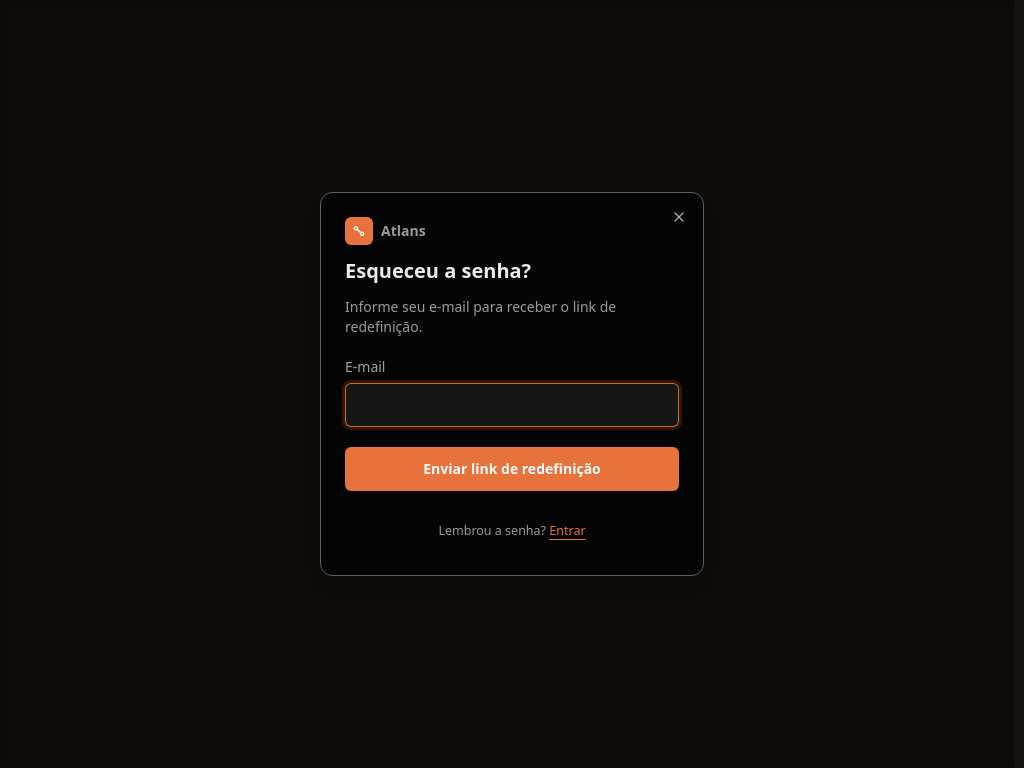
Test case: ModalDeEntrada — o caminho da senha › recuperar: POST /auth/forgot-password e o aviso de caixa de entrada
In the field labelled "E-mail": (512, 405) 345,383 -> 679,427, type "ana@exemplo.com"
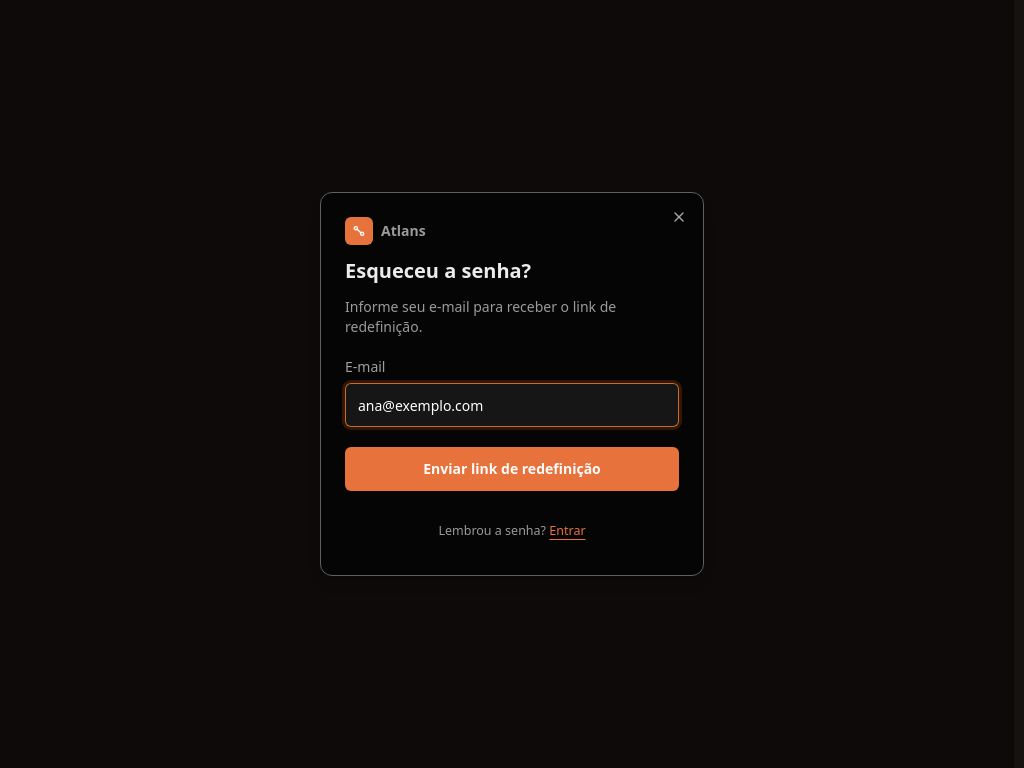
Submit the form labelled "E-mail Enviar link de redefinição", box 345,357 -> 679,491
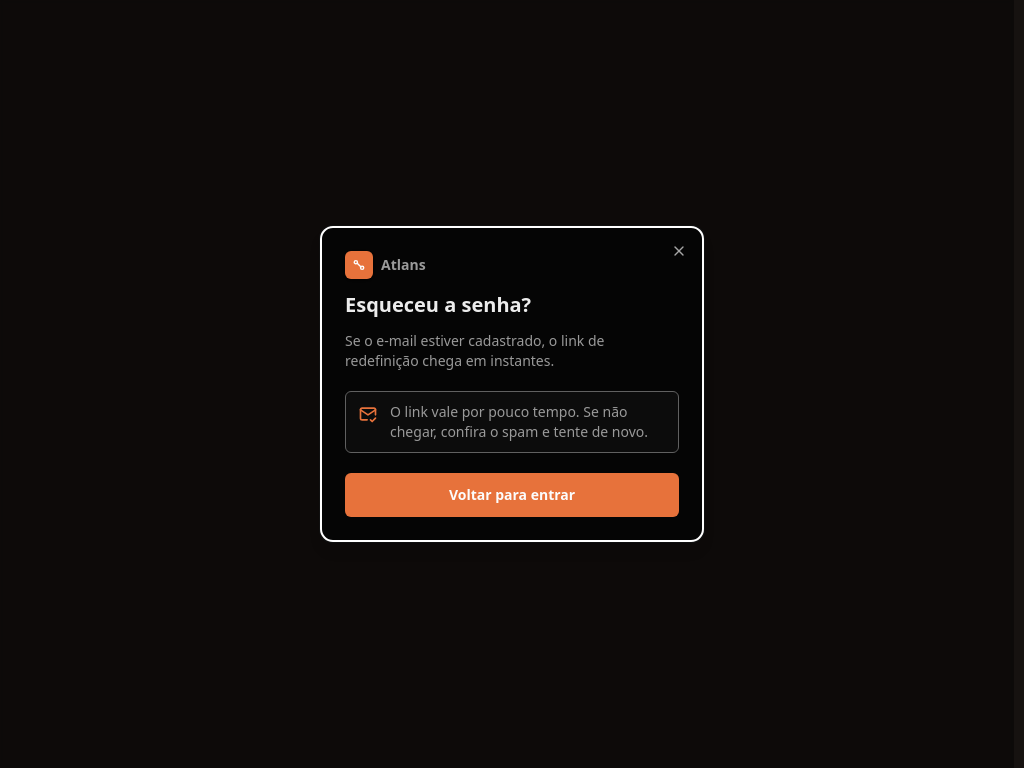
Expected: the text "confira o spam" is shown, 390,402 -> 648,441
